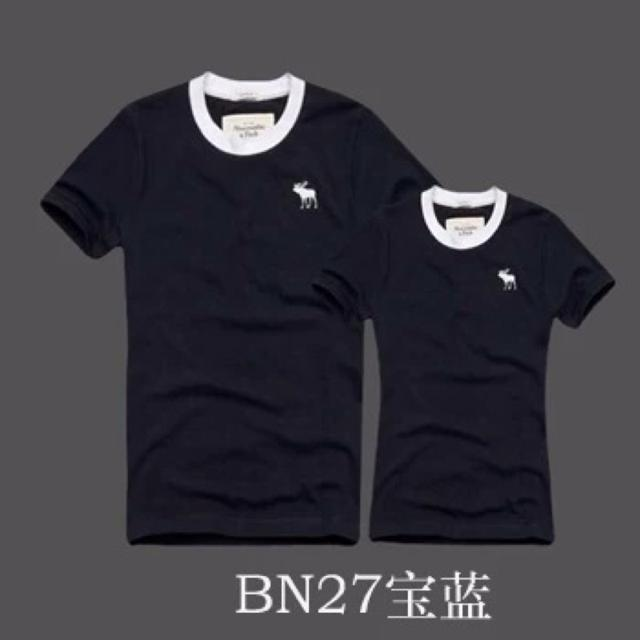Tops: (44, 74, 422, 546), (360, 186, 595, 546)
